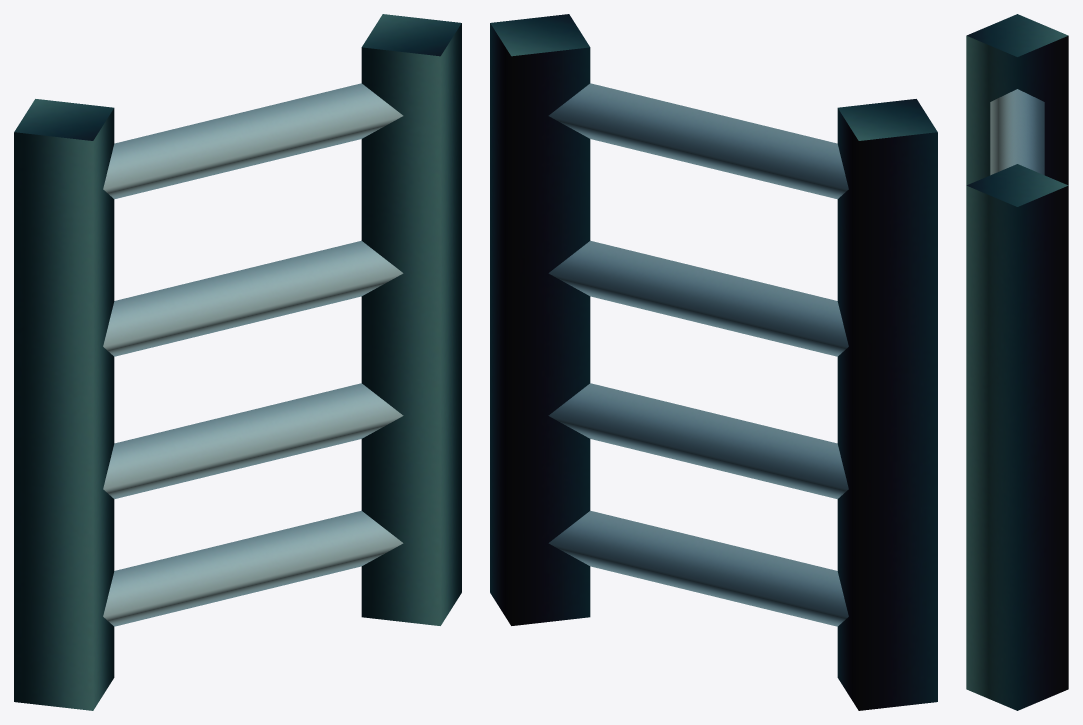
The model's file is TiZi01.FBX.
The picture shows the model from 3 angles, left to right: view 1: azimuth 30°, elevation 25°; view 2: azimuth 150°, elevation 25°; view 3: azimuth 270°, elevation 25°; orthographic projection. The views are drawn at different scales.
Parts seen in each view (by area): view 1: TiZi01; view 2: TiZi01; view 3: TiZi01.
Part boxes in pixels (x1,y1,x2,y2): TiZi01: (14, 14, 461, 710); TiZi01: (490, 14, 937, 710); TiZi01: (966, 14, 1068, 710).
Size of the model in its own units: 12.95 by 15.75 by 2.9.
